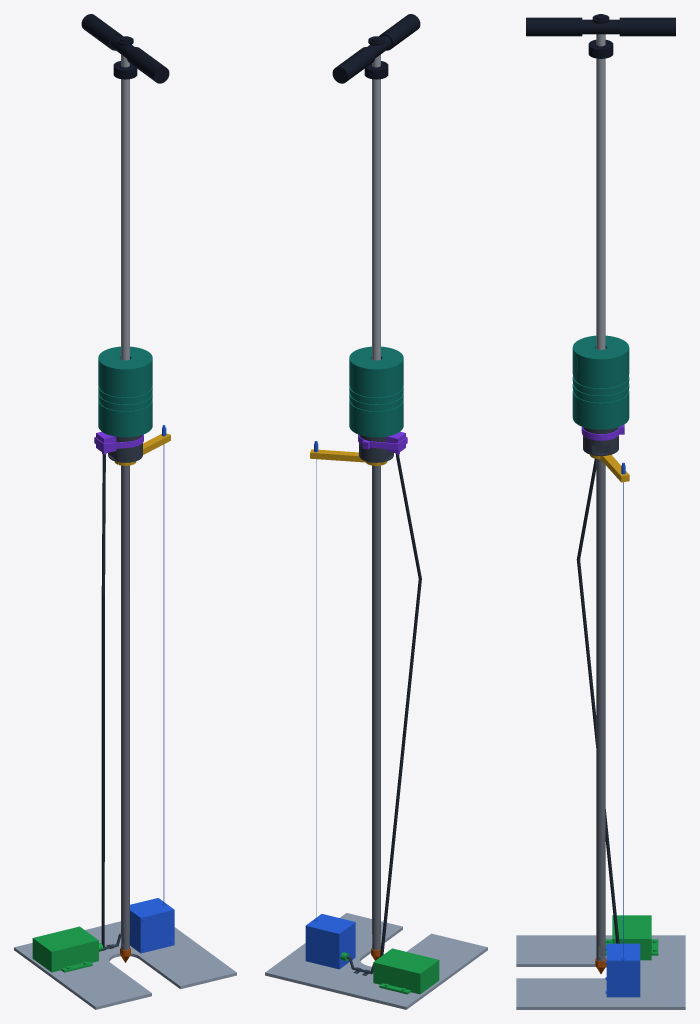
3 renders of one model, left to right at view 1: azimuth 30°, elevation 25°; view 2: azimuth 150°, elevation 25°; view 3: azimuth 270°, elevation 25°, orthographic. The views are drawn at different scales.
Parts seen in each view (by area): view 1: Reference plate, slotted, Drop hammer, 8 kg, Lower drive rod, 16 mm x 1,000 mm, Draw-wire depth sensor, Upper rod (hammer guide), BLE logger, 3 x AA, Handle, top stop, grips, bubble level, Coiled sensor cable, Anvil and coupler, Blow and tilt sensor pad; view 2: Reference plate, slotted, Drop hammer, 8 kg, Lower drive rod, 16 mm x 1,000 mm, Draw-wire depth sensor, Upper rod (hammer guide), BLE logger, 3 x AA, Handle, top stop, grips, bubble level, Coiled sensor cable, Blow and tilt sensor pad, Anvil and coupler, Anvil clamp and wire arm, aluminum; view 3: Reference plate, slotted, Drop hammer, 8 kg, Lower drive rod, 16 mm x 1,000 mm, Handle, top stop, grips, bubble level, Upper rod (hammer guide), Draw-wire depth sensor, Coiled sensor cable, BLE logger, 3 x AA, Anvil and coupler, Anvil clamp and wire arm, aluminum.
Boxes of the visible parts, x1,y1,x2,y2 form: Reference plate, slotted: [14, 921, 236, 1009]; Drop hammer, 8 kg: [98, 346, 152, 437]; Lower drive rod, 16 mm x 1,000 mm: [121, 465, 129, 950]; Draw-wire depth sensor: [129, 425, 174, 953]; Upper rod (hammer guide): [121, 54, 129, 360]; BLE logger, 3 x AA: [32, 926, 103, 972]; Handle, top stop, grips, bubble level: [81, 14, 169, 83]; Coiled sensor cable: [101, 454, 105, 947]; Anvil and coupler: [108, 435, 142, 462]; Blow and tilt sensor pad: [94, 431, 143, 454]; Reference plate, slotted: [265, 913, 487, 1009]; Drop hammer, 8 kg: [349, 346, 403, 437]; Lower drive rod, 16 mm x 1,000 mm: [372, 465, 380, 950]; Draw-wire depth sensor: [305, 441, 355, 969]; Upper rod (hammer guide): [372, 54, 380, 360]; BLE logger, 3 x AA: [340, 948, 439, 994]; Handle, top stop, grips, bubble level: [332, 14, 420, 83]; Coiled sensor cable: [380, 454, 421, 956]; Blow and tilt sensor pad: [358, 431, 407, 454]; Anvil and coupler: [359, 435, 393, 462]; Anvil clamp and wire arm, aluminum: [310, 449, 387, 465]; Reference plate, slotted: [516, 935, 685, 1009]; Drop hammer, 8 kg: [572, 335, 629, 429]; Lower drive rod, 16 mm x 1,000 mm: [596, 459, 605, 961]; Handle, top stop, grips, bubble level: [526, 14, 675, 58]; Upper rod (hammer guide): [596, 34, 605, 349]; Draw-wire depth sensor: [605, 462, 640, 997]; Coiled sensor cable: [576, 458, 619, 943]; BLE logger, 3 x AA: [605, 915, 658, 960]; Anvil and coupler: [583, 427, 618, 455]; Anvil clamp and wire arm, aluminum: [589, 454, 629, 482].
Size of the model in its own units: 0.3 by 1.88 by 0.3.
